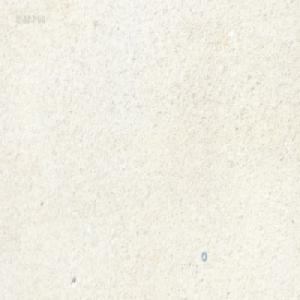Washer: (200, 250, 207, 261)
